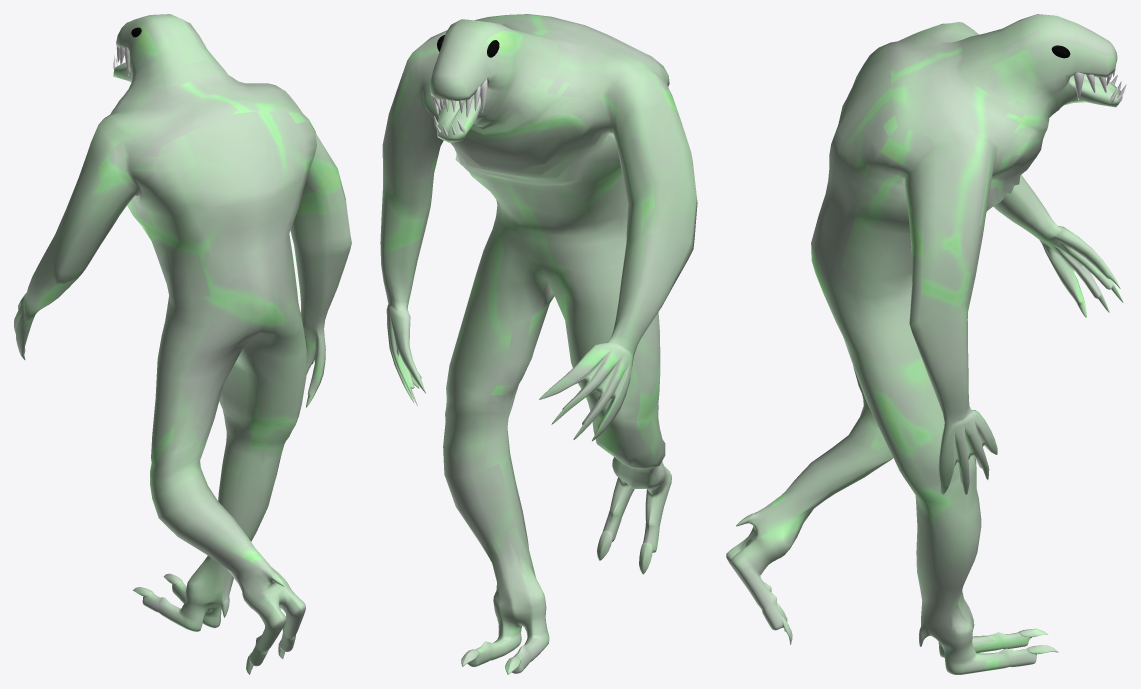
File: Berserkerandar.0034.obj
3 renders of one model, left to right at view 1: azimuth 30°, elevation 25°; view 2: azimuth 150°, elevation 25°; view 3: azimuth 270°, elevation 25°, orthographic. The views are drawn at different scales.
Parts seen in each view (by area): view 1: polySurface27; view 2: polySurface27; view 3: polySurface27.
Part boxes in pixels (<box>): polySurface27: <box>14,14,351,674</box>; polySurface27: <box>380,14,697,674</box>; polySurface27: <box>726,14,1126,674</box>.
Bounding box in the file's own units: 11.65 × 23.33 × 13.05.
1 material, 1 textured.
